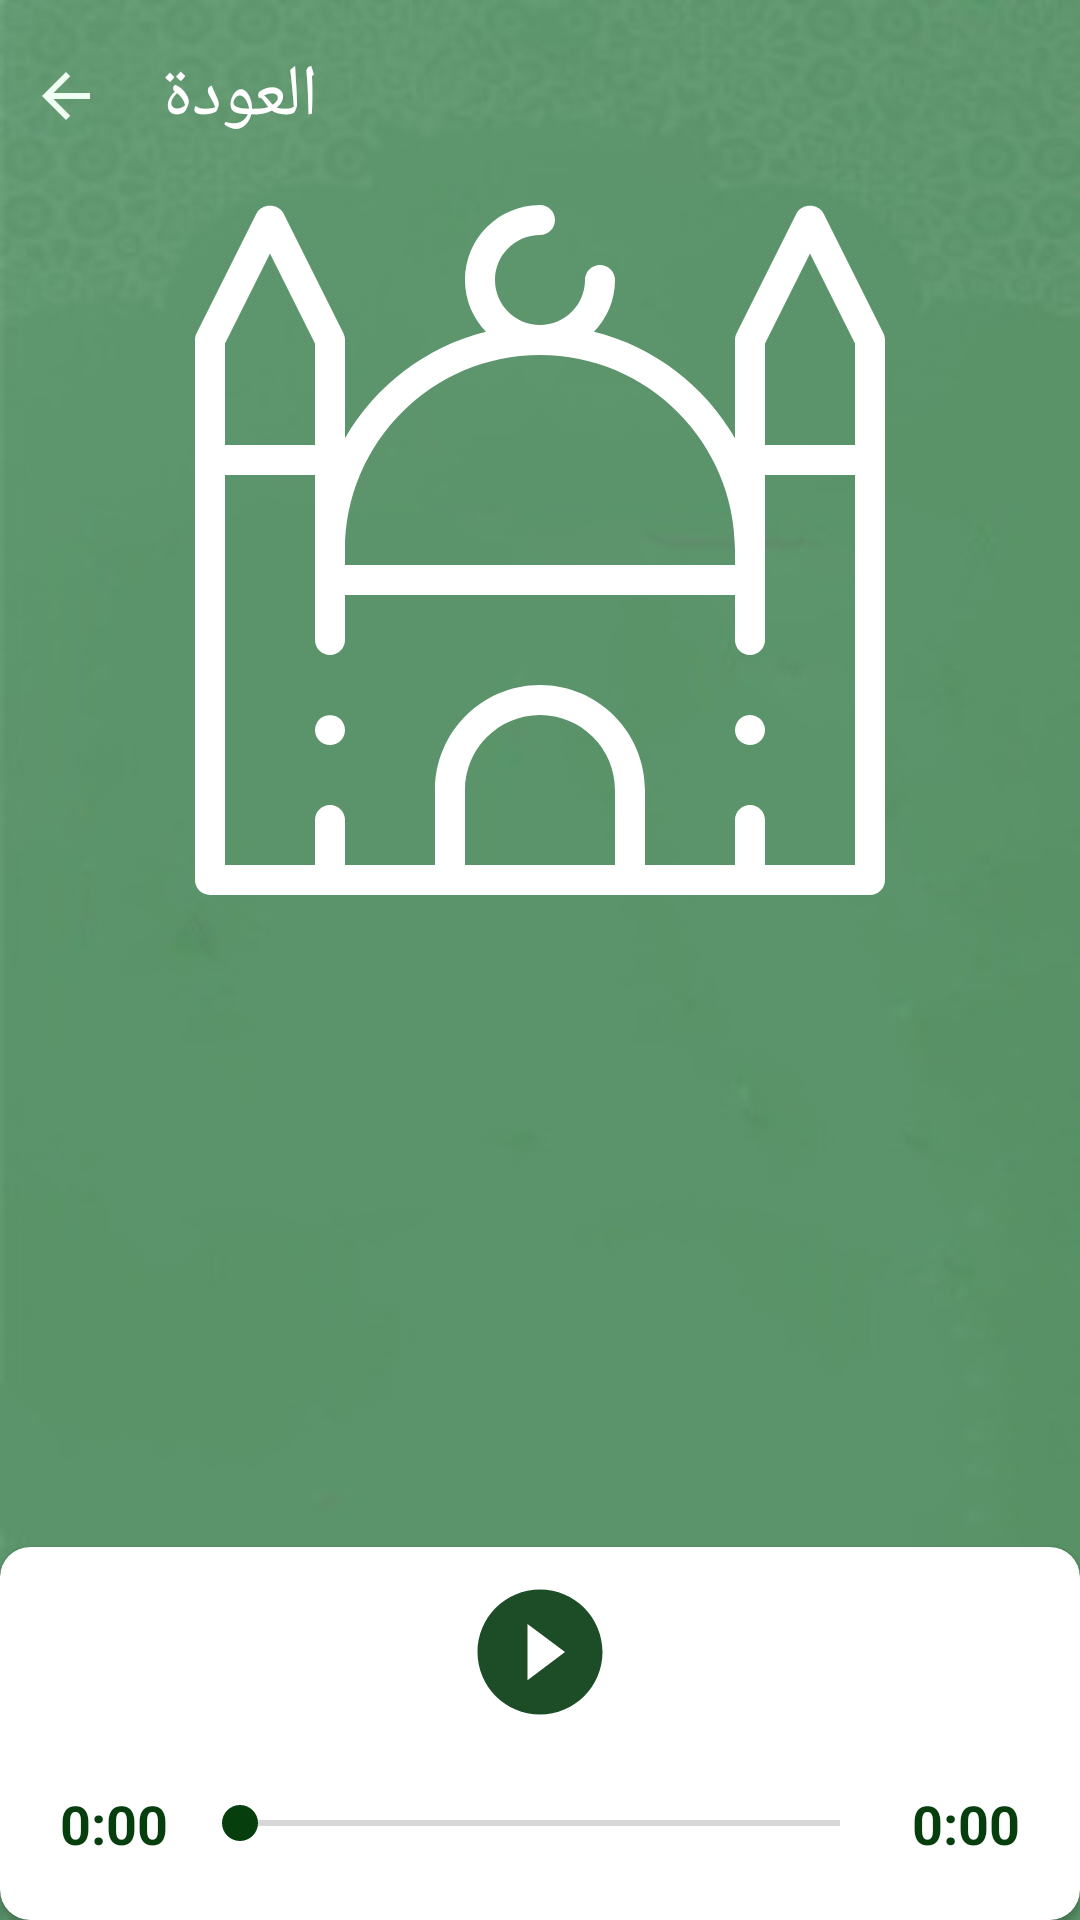

Screen size 1080w x 1920h. Icon name, then its box in pixels as (x1, y1, x2, y2):
arrow back: (42, 72, 90, 120)
play circle: (477, 1589, 603, 1715)
